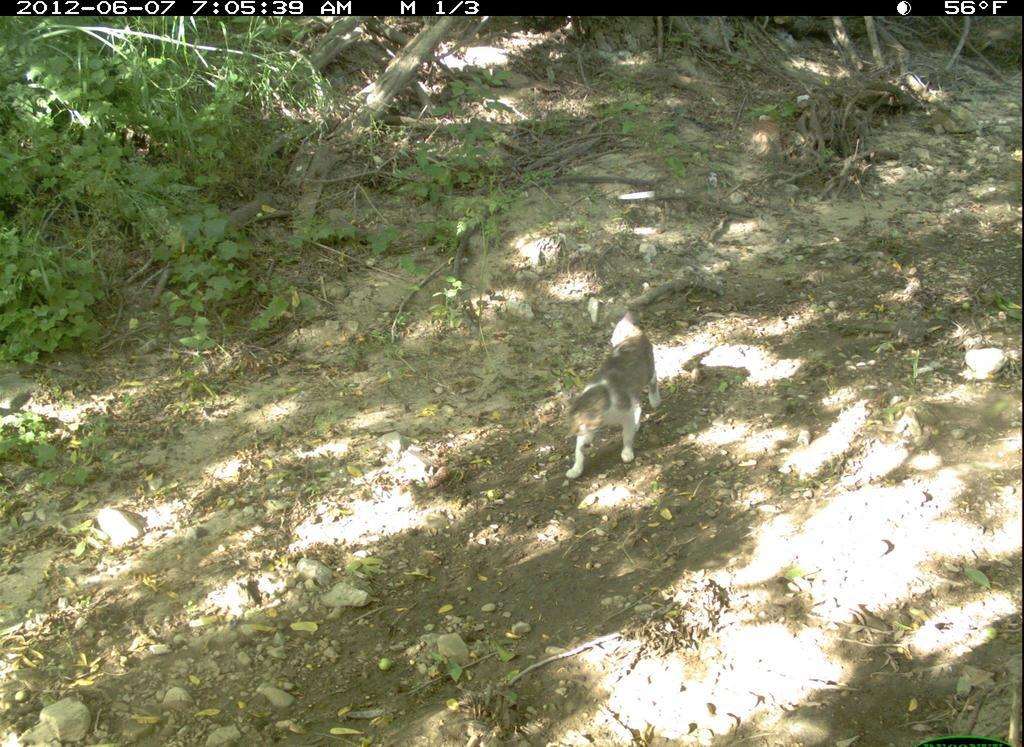cat: (562, 304, 675, 504)
